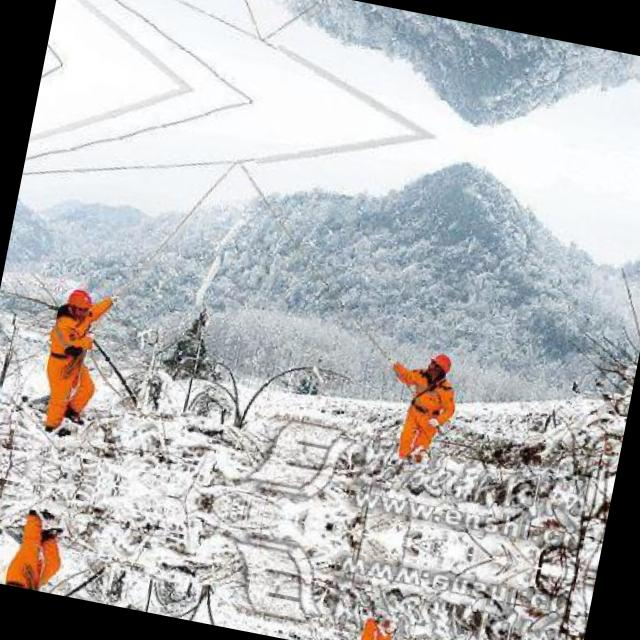helmet: (63, 280, 99, 323), (423, 349, 456, 384)
